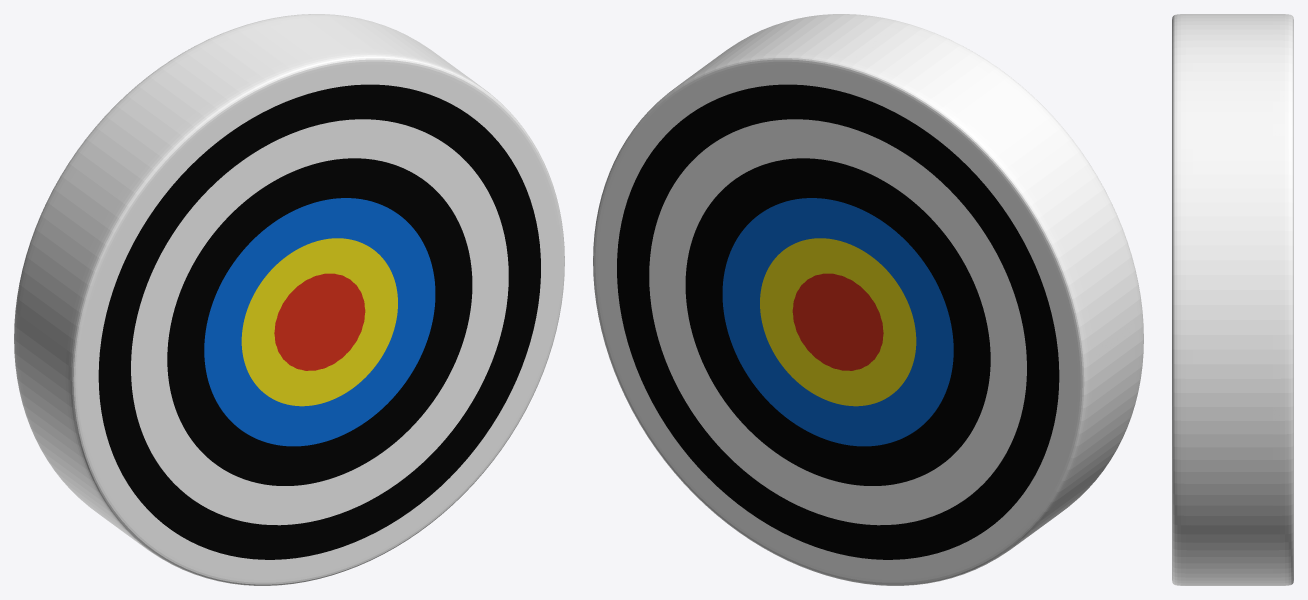
File: Diana.fbx
The picture shows the model from 3 angles, left to right: view 1: azimuth 30°, elevation 25°; view 2: azimuth 150°, elevation 25°; view 3: azimuth 270°, elevation 25°; orthographic projection.
Visible parts, largest first — view 1: Cylinder; view 2: Cylinder; view 3: Cylinder.
Part boxes in pixels (x1,y1,x2,y2): Cylinder: (14,14,564,585); Cylinder: (593,14,1143,585); Cylinder: (1172,14,1293,585).
Bounding box in the file's own units: 191 × 191 × 40.59.
